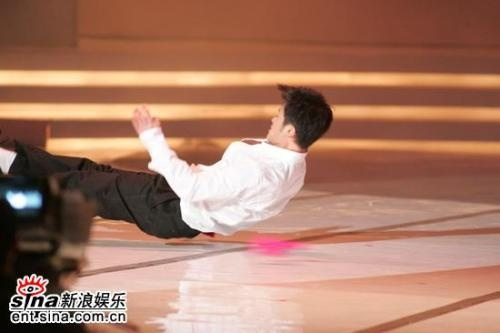falling: (7, 71, 325, 258)
